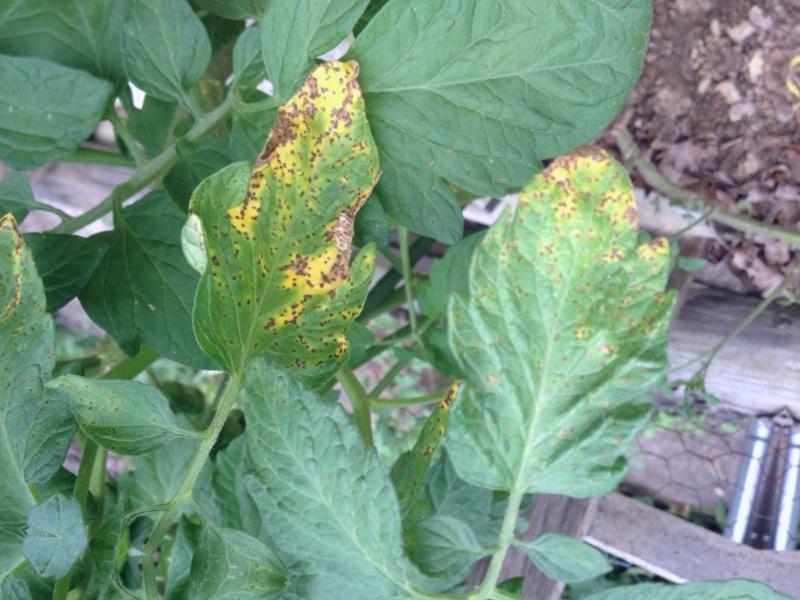Tomato Septoria leaf spot: (402, 107, 714, 519), (151, 26, 415, 407)
